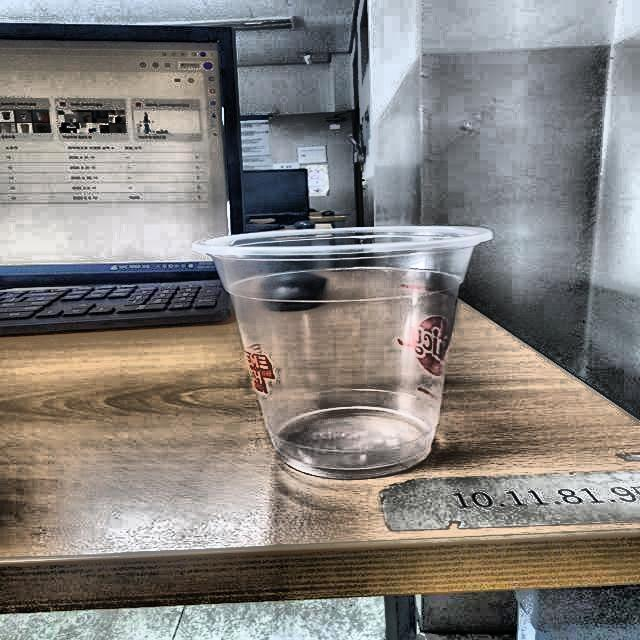plastic cup: (192, 222, 493, 480)
